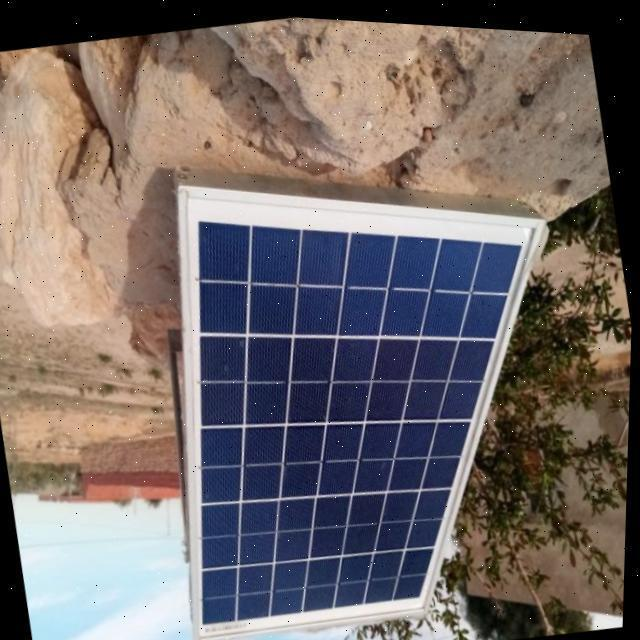Normal Solar Panel: (125, 128, 608, 640)
